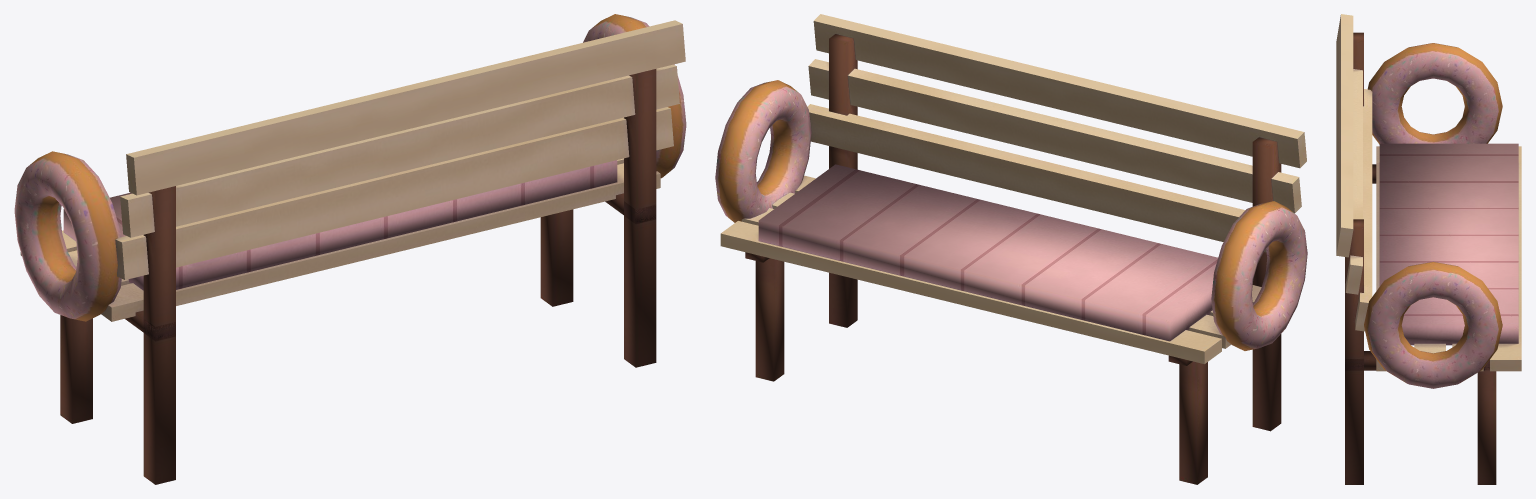
Rendered from bench.glb.
3 renders of one model, left to right at view 1: azimuth 30°, elevation 25°; view 2: azimuth 150°, elevation 25°; view 3: azimuth 270°, elevation 25°, orthographic. The views are drawn at different scales.
Visible parts, largest first — view 1: BenchWood, BenchFrame, DonutArms, Cushion; view 2: BenchWood, Cushion, DonutArms, BenchFrame; view 3: Cushion, DonutArms, BenchWood, BenchFrame.
Boxes of the visible parts, <box> form: BenchWood: <box>20,20,685,321</box>; BenchFrame: <box>60,69,656,484</box>; DonutArms: <box>14,14,686,321</box>; Cushion: <box>63,160,617,290</box>; BenchWood: <box>720,14,1306,364</box>; Cushion: <box>758,164,1217,341</box>; DonutArms: <box>715,80,1307,350</box>; BenchFrame: <box>745,34,1281,484</box>; Cushion: <box>1379,143,1518,345</box>; DonutArms: <box>1364,43,1502,388</box>; BenchWood: <box>1336,14,1521,371</box>; BenchFrame: <box>1345,32,1496,484</box>.
Size of what is drawn, in the model's own units: 1.76 by 0.9324 by 0.5872.
Materials: 1 (1 with a texture image).
